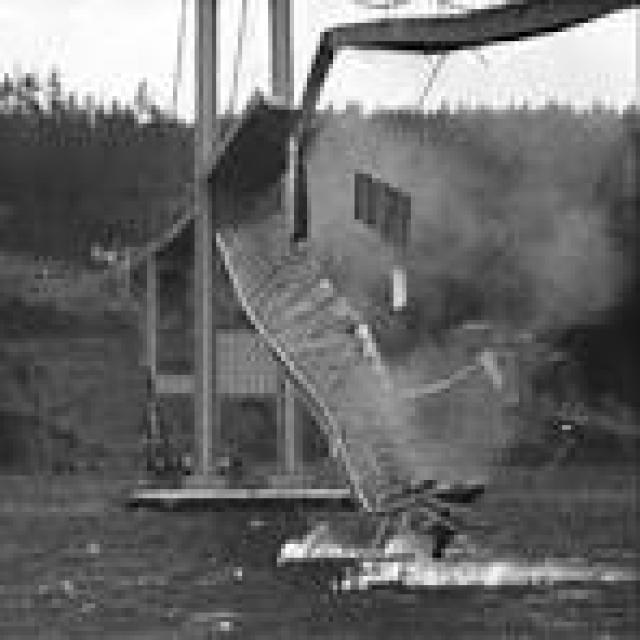bridge collapse: (121, 41, 640, 639)
